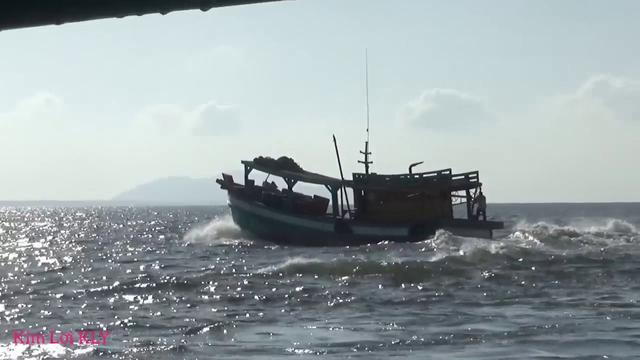Ship: (213, 147, 508, 250)
